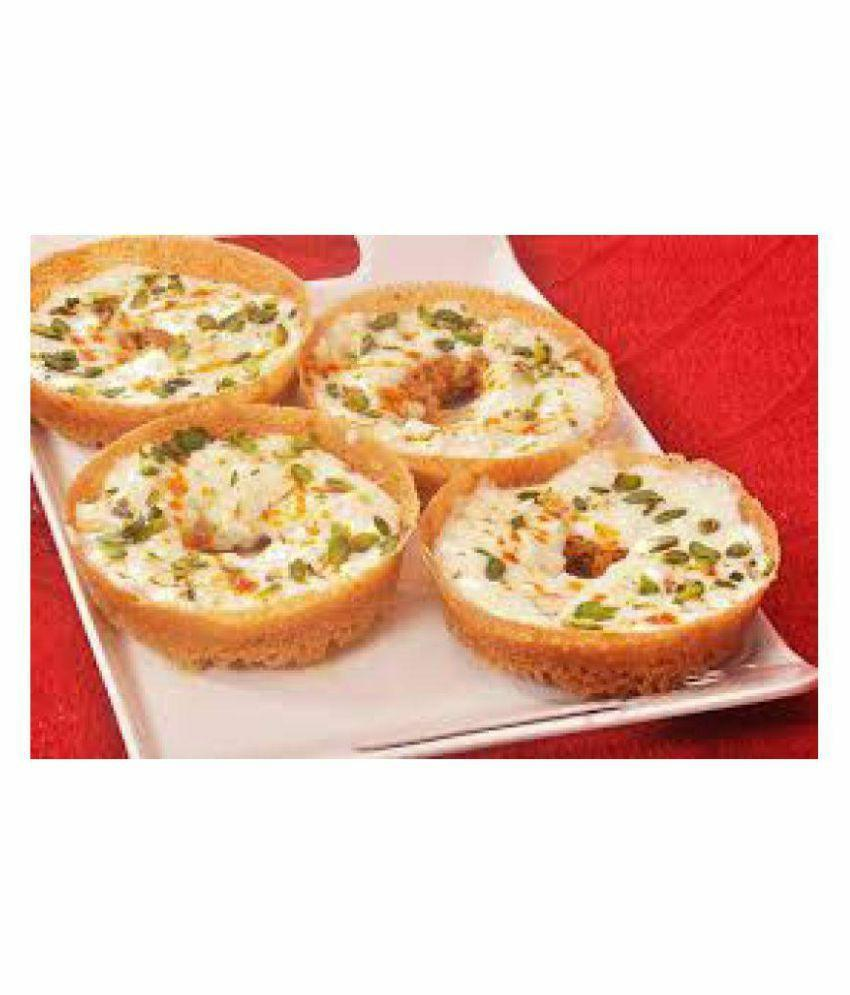Ghevar: (62, 396, 416, 675), (419, 444, 781, 697), (297, 280, 615, 486), (29, 236, 313, 447)
